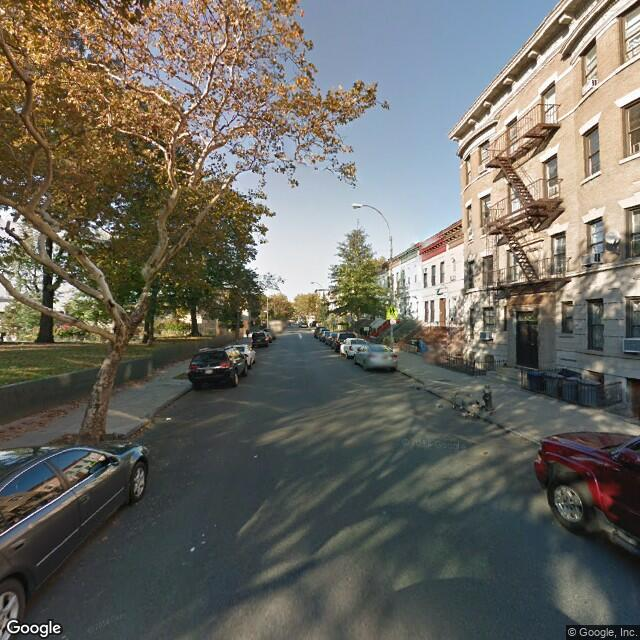litter: (444, 380, 492, 420), (156, 406, 193, 432), (170, 529, 206, 550)
